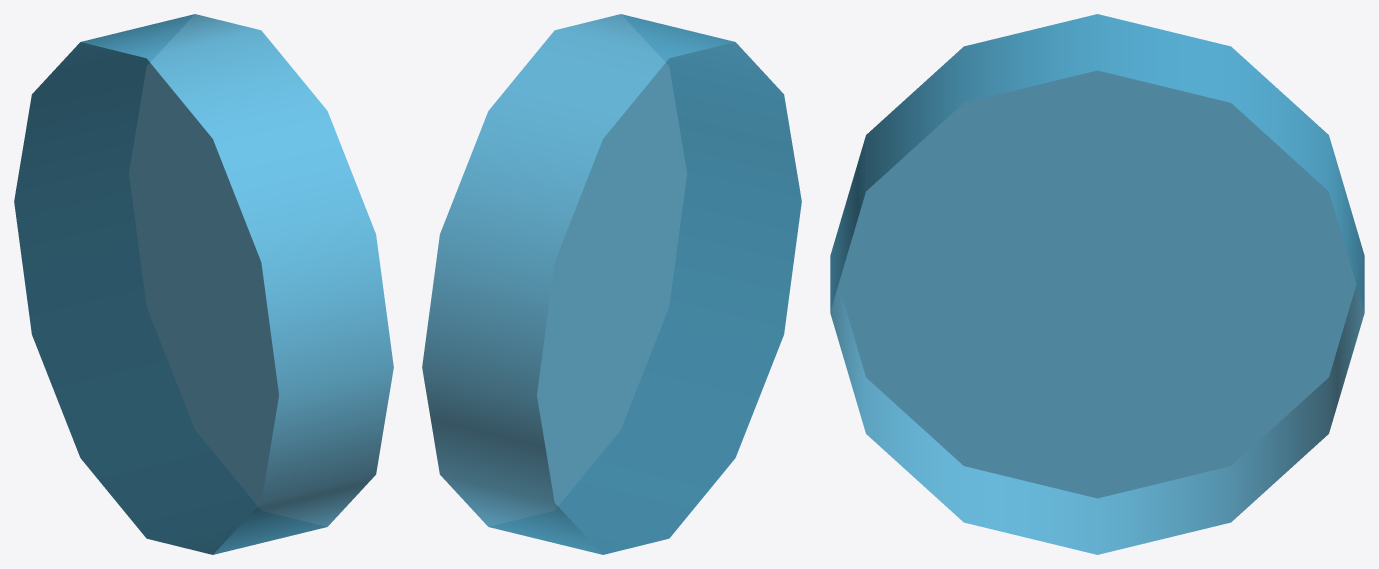
Rendered from original-7.obj.
3 renders of one model, left to right at view 1: azimuth 30°, elevation 25°; view 2: azimuth 150°, elevation 25°; view 3: azimuth 270°, elevation 25°, orthographic.
Parts seen in each view (by area): view 1: mesh6/mesh6-geometry#mesh6-geometry; view 2: mesh6/mesh6-geometry#mesh6-geometry; view 3: mesh6/mesh6-geometry#mesh6-geometry.
Part boxes in pixels (box(x1,y1,x2,y2)): mesh6/mesh6-geometry#mesh6-geometry: box(14, 14, 393, 554); mesh6/mesh6-geometry#mesh6-geometry: box(422, 14, 801, 554); mesh6/mesh6-geometry#mesh6-geometry: box(830, 14, 1364, 554).
Bounding box in the file's own units: 0.0199 × 0.0796 × 0.0796.
